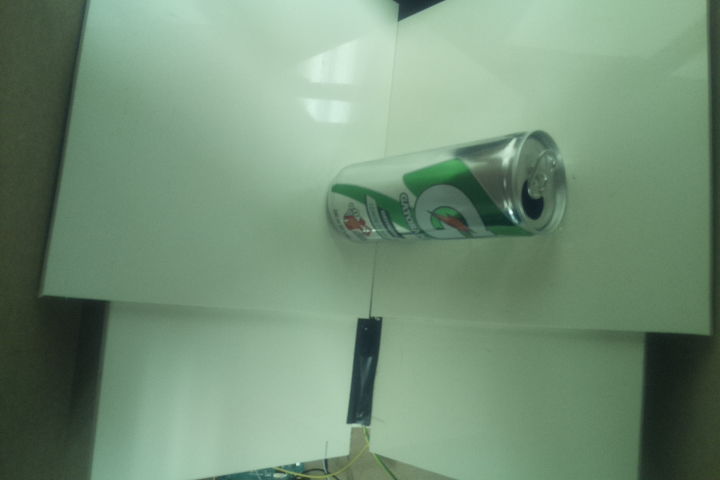can: (323, 119, 570, 264)
